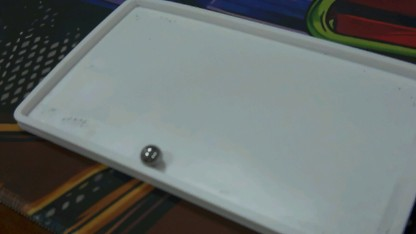ironball: (139, 141, 168, 165)
